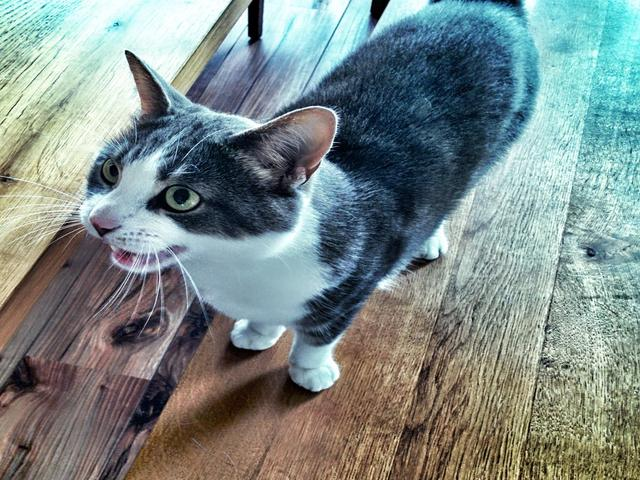cat: (14, 30, 536, 394)
